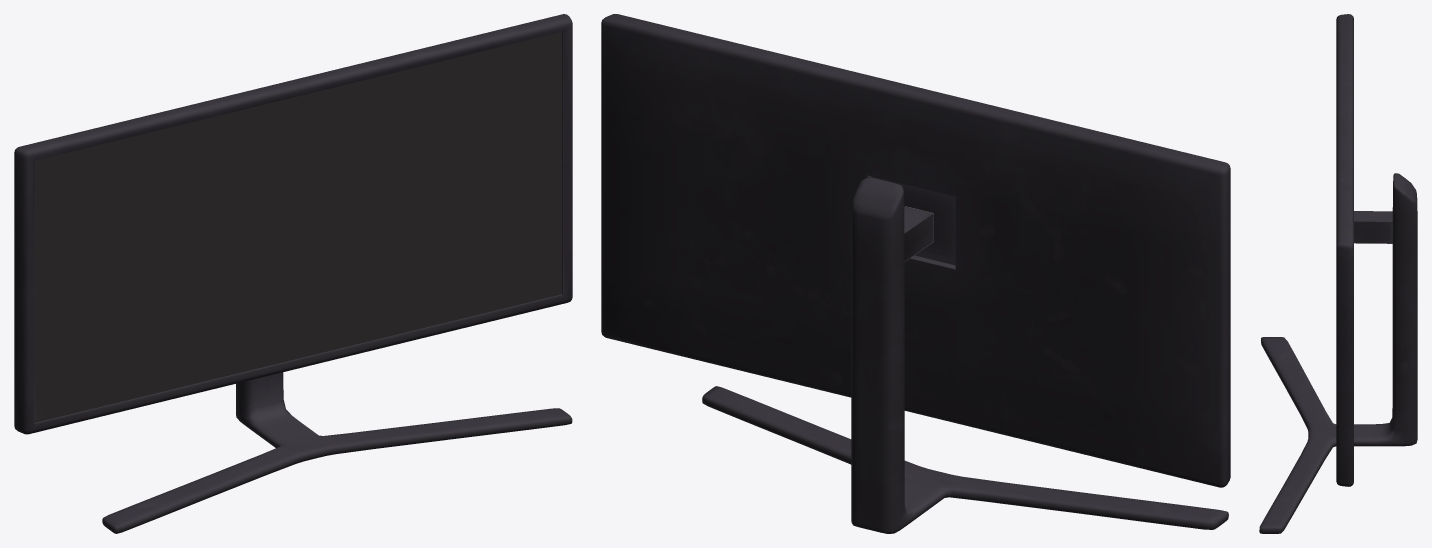
File: monitor.glb
The picture shows the model from 3 angles, left to right: view 1: azimuth 30°, elevation 25°; view 2: azimuth 150°, elevation 25°; view 3: azimuth 270°, elevation 25°; orthographic projection. The views are drawn at different scales.
Visible parts, largest first — view 1: Object_8; view 2: Object_8; view 3: Object_8.
Boxes of the visible parts, box(x1,y1,x2,y2) form: Object_8: box(14, 14, 572, 533); Object_8: box(601, 14, 1230, 533); Object_8: box(1259, 14, 1417, 533).
Size of the model in its own units: 52 by 32.43 by 14.96.
Materials: 1 (1 with a texture image).
